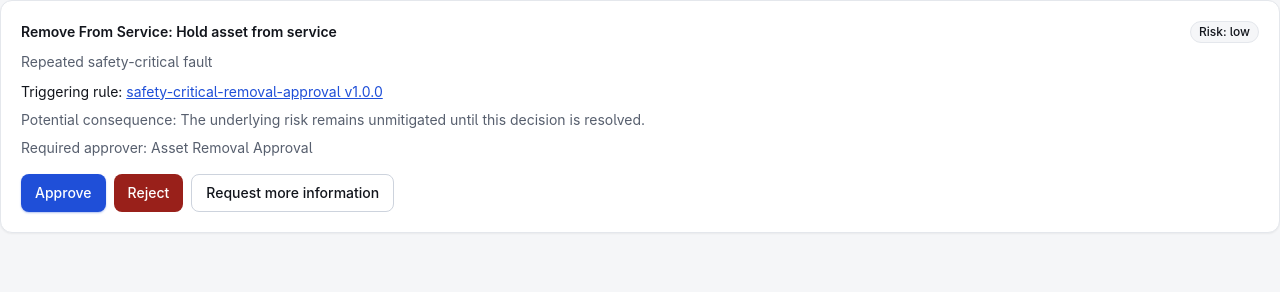
Test: DecisionCard › shows the action's error on this card and leaves the decision pending
Click the button "Reject" at (148, 193), box top-left (114, 174), bottom-right (183, 212)
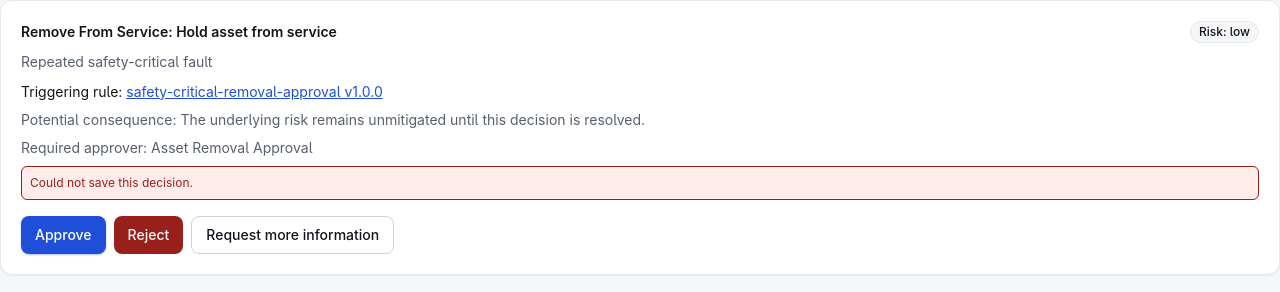
Expected: the button "Approve" is shown, top-left (21, 216), bottom-right (106, 254)
Expected: the message reads "Could not save this decision.", top-left (30, 175), bottom-right (193, 190)
